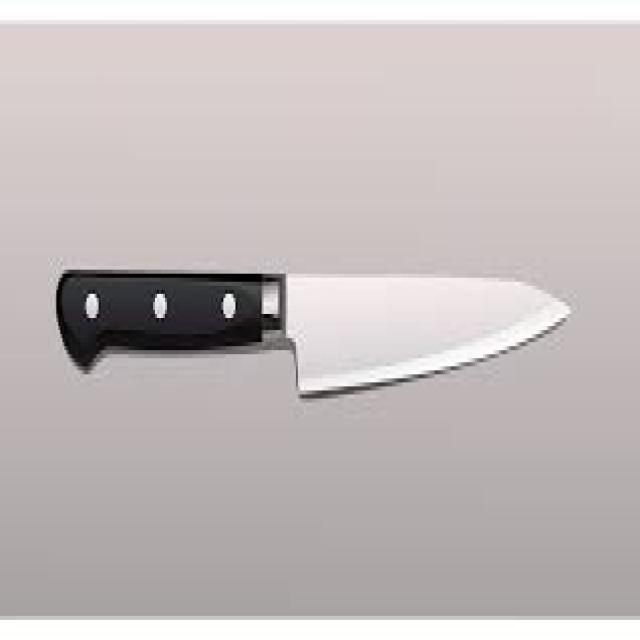Knife: (56, 274, 572, 398)
